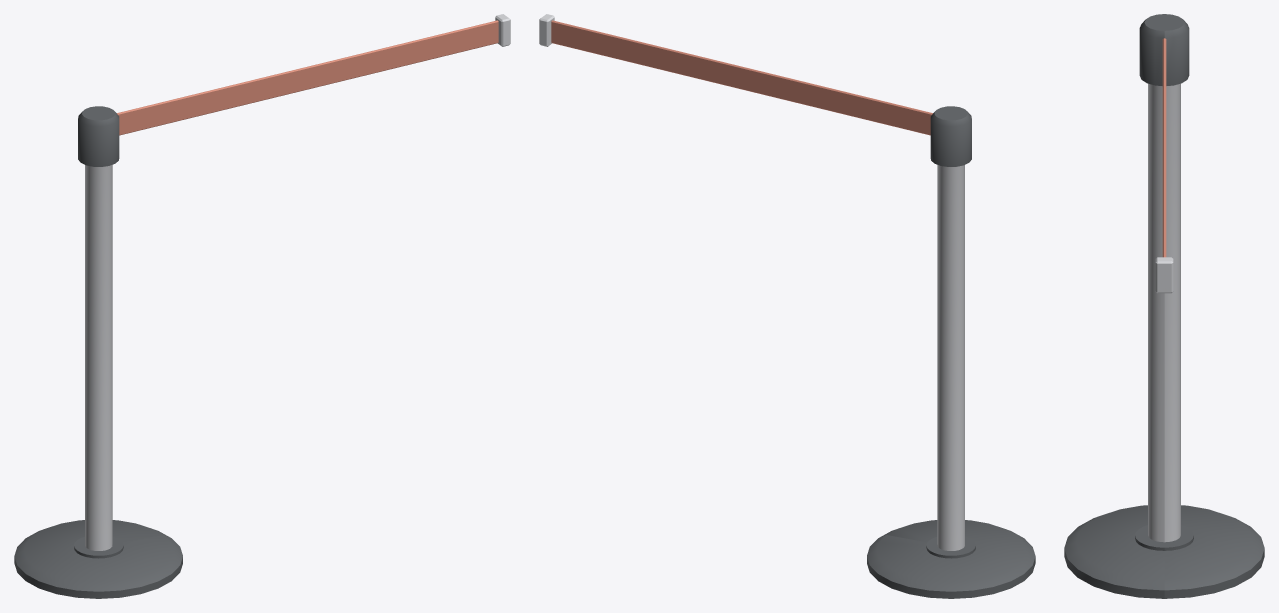
3 renders of one model, left to right at view 1: azimuth 30°, elevation 25°; view 2: azimuth 150°, elevation 25°; view 3: azimuth 270°, elevation 25°, orthographic. The views are drawn at different scales.
Visible parts, largest first — view 1: fitting-room-queue-post; view 2: fitting-room-queue-post; view 3: fitting-room-queue-post.
Part boxes in pixels (x1,y1,x2,y2): fitting-room-queue-post: (14,14,510,598); fitting-room-queue-post: (539,14,1035,598); fitting-room-queue-post: (1064,14,1264,598).
Bounding box in the file's own units: 1.12 × 1 × 0.34.
